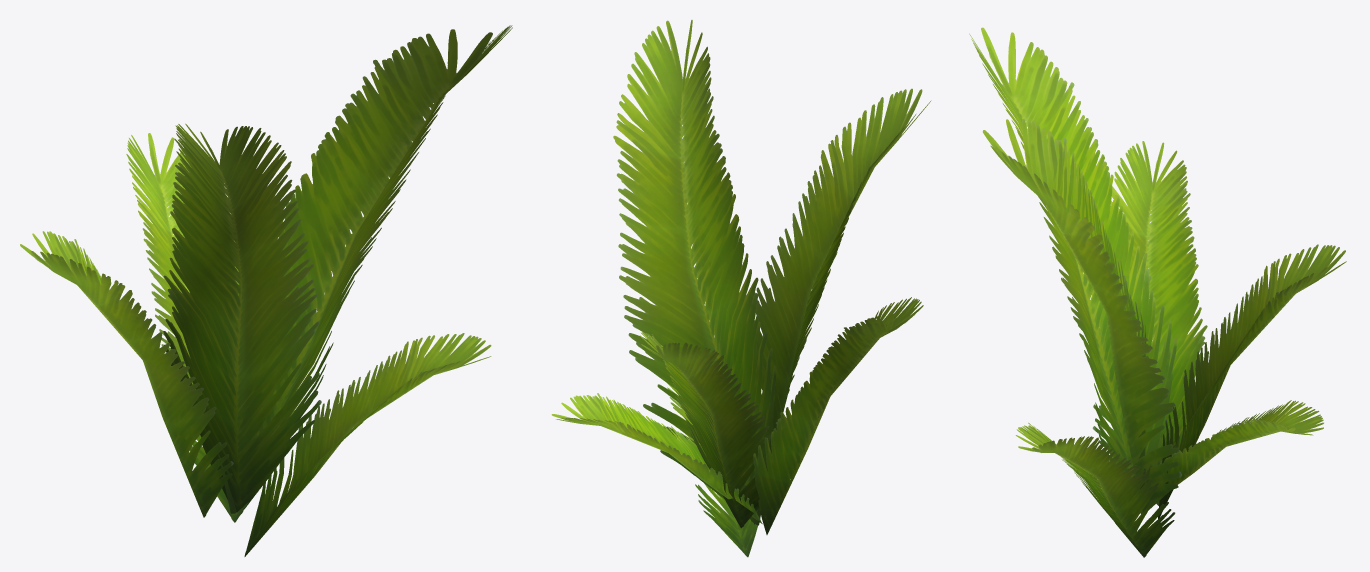
The model's file is SM_Vegetation_03.fbx.
The picture shows the model from 3 angles, left to right: view 1: azimuth 30°, elevation 25°; view 2: azimuth 150°, elevation 25°; view 3: azimuth 270°, elevation 25°; orthographic projection. The views are drawn at different scales.
Parts seen in each view (by area): view 1: SM_Vegetation_03_LOD0; view 2: SM_Vegetation_03_LOD0; view 3: SM_Vegetation_03_LOD0.
Boxes of the visible parts, x1,y1,x2,y2 form: SM_Vegetation_03_LOD0: (20, 25, 512, 556); SM_Vegetation_03_LOD0: (551, 20, 931, 557); SM_Vegetation_03_LOD0: (969, 27, 1346, 557).
Size of what is drawn, in the model's own units: 2.22 by 2.84 by 1.95.
